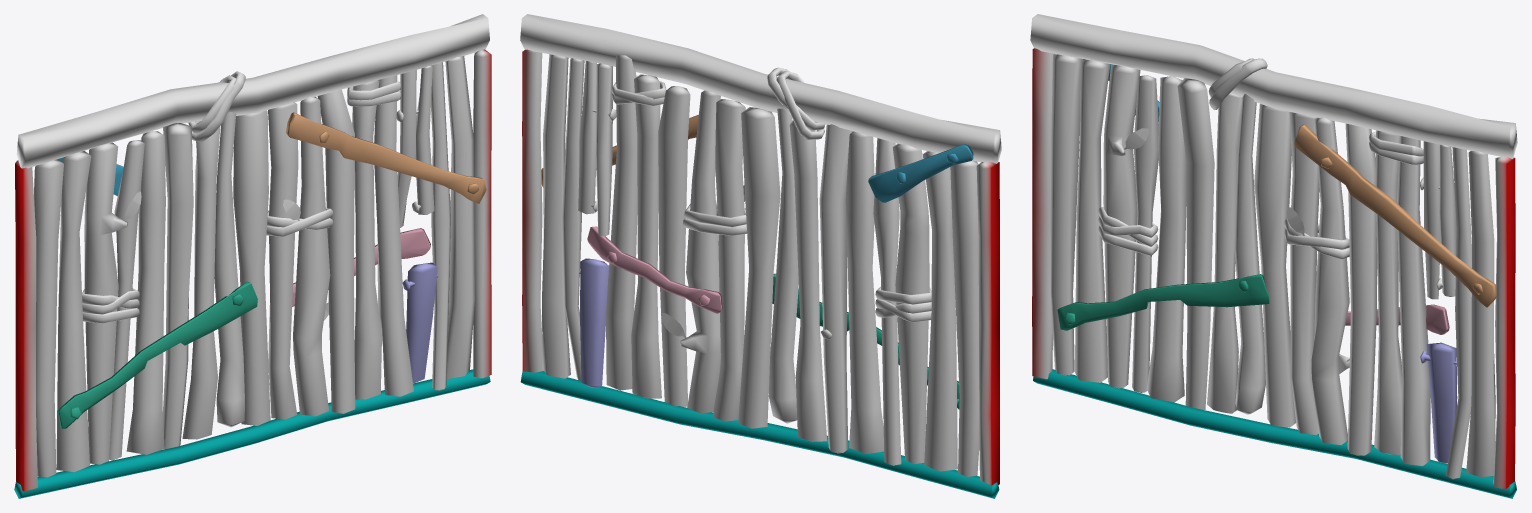
File: PBW_W1_Solid.glb
The picture shows the model from 3 angles, left to right: view 1: azimuth 30°, elevation 25°; view 2: azimuth 150°, elevation 25°; view 3: azimuth 330°, elevation 25°; orthographic projection.
Visible parts, largest first — view 1: PBW_W1_Solid; view 2: PBW_W1_Solid; view 3: PBW_W1_Solid.
Part boxes in pixels (bbox=[...]): PBW_W1_Solid: bbox=[14, 14, 491, 498]; PBW_W1_Solid: bbox=[520, 14, 1001, 498]; PBW_W1_Solid: bbox=[1030, 14, 1517, 498].
Size of the model in its own units: 5.12 by 3.92 by 0.4804.
